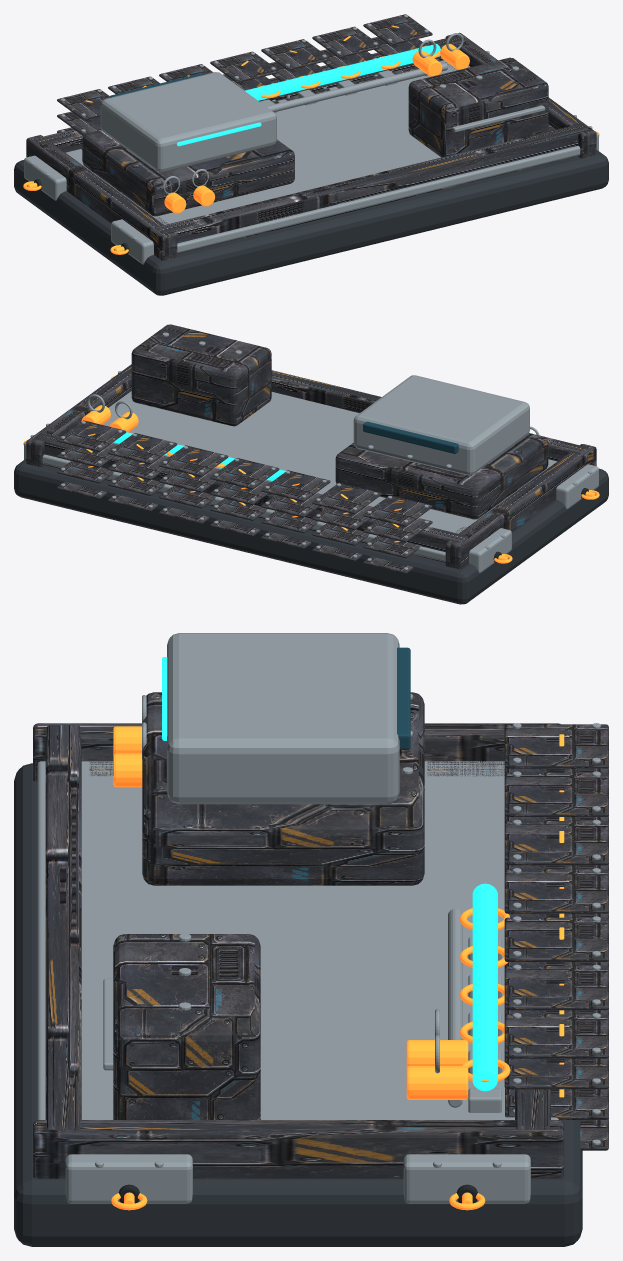
Rendered from resonance_module_hero.glb.
3 views of the same model, one above another, from view 1: azimuth 30°, elevation 25°; view 2: azimuth 150°, elevation 25°; view 3: azimuth 270°, elevation 25° (orthographic). The views are drawn at different scales.
Visible parts, largest first — view 1: Chassis/lower, Chassis/deck, ControlCabin/upper, RearBattery/housing, Chassis/end_beam_2.36, ControlCabin/lower, Chassis/side_beam_-4.72, Conduit/main, Chassis/side_beam_4.72, Chassis/end_beam_-2.36, Conduit/return, FrontFace/3_4/plate (+16 smaller); view 2: Chassis/lower, Chassis/deck, ControlCabin/upper, RearBattery/housing, ControlCabin/lower, Chassis/side_beam_-4.72, Chassis/end_beam_2.36, Chassis/side_beam_4.72, Chassis/end_beam_-2.36, FrontFace/3_0/plate, FrontFace/3_2/plate, FrontFace/3_4/plate (+28 smaller); view 3: Chassis/deck, Chassis/lower, ControlCabin/upper, ControlCabin/lower, RearBattery/housing, Chassis/side_beam_4.72, Chassis/end_beam_2.36, RailClamp/1_1.7/jaw, RailClamp/1_-1.7/jaw, Chassis/side_beam_-4.72, Conduit/main, FrontFace/3_5/plate (+19 smaller).
Boxes of the visible parts, x1,y1,x2,y2 form: Chassis/lower: (14, 150, 608, 295); Chassis/deck: (66, 60, 580, 252); ControlCabin/upper: (100, 72, 276, 172); RearBattery/housing: (408, 57, 548, 157); Chassis/end_beam_2.36: (155, 123, 588, 253); ControlCabin/lower: (82, 130, 294, 216); Chassis/side_beam_-4.72: (26, 135, 177, 260); Conduit/main: (245, 44, 440, 100); Chassis/side_beam_4.72: (445, 32, 596, 158); Chassis/end_beam_-2.36: (34, 35, 467, 152); Conduit/return: (266, 63, 447, 112); FrontFace/3_4/plate: (261, 39, 330, 70); Chassis/lower: (14, 458, 608, 604); Chassis/deck: (42, 391, 556, 561); ControlCabin/upper: (353, 375, 529, 475); RearBattery/housing: (131, 324, 271, 426); ControlCabin/lower: (335, 433, 548, 519); Chassis/side_beam_-4.72: (445, 444, 596, 569); Chassis/end_beam_2.36: (271, 370, 588, 461); Chassis/side_beam_4.72: (26, 364, 131, 466); Chassis/end_beam_-2.36: (34, 432, 467, 562); FrontFace/3_0/plate: (363, 495, 432, 526); FrontFace/3_2/plate: (261, 470, 330, 501); FrontFace/3_4/plate: (159, 445, 228, 476); Chassis/deck: (37, 761, 558, 1119); Chassis/lower: (14, 763, 582, 1246); ControlCabin/upper: (167, 633, 399, 804); ControlCabin/lower: (142, 692, 424, 885); RearBattery/housing: (113, 934, 260, 1119); Chassis/side_beam_4.72: (33, 1120, 563, 1178); Chassis/end_beam_2.36: (45, 725, 81, 1129); RailClamp/1_1.7/jaw: (65, 1154, 192, 1203); RailClamp/1_-1.7/jaw: (403, 1154, 530, 1203); Chassis/side_beam_-4.72: (33, 723, 560, 781); Conduit/main: (472, 883, 497, 1091); FrontFace/3_5/plate: (504, 966, 608, 1010).
Size of the model in its own units: 10.96 by 2.57 by 5.98.
Materials: 8 (1 with a texture image).
